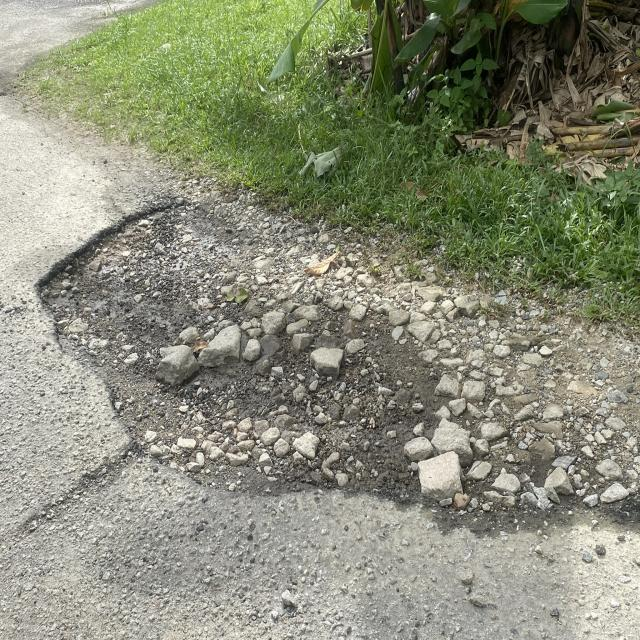Pothole: (0, 186, 554, 558)
